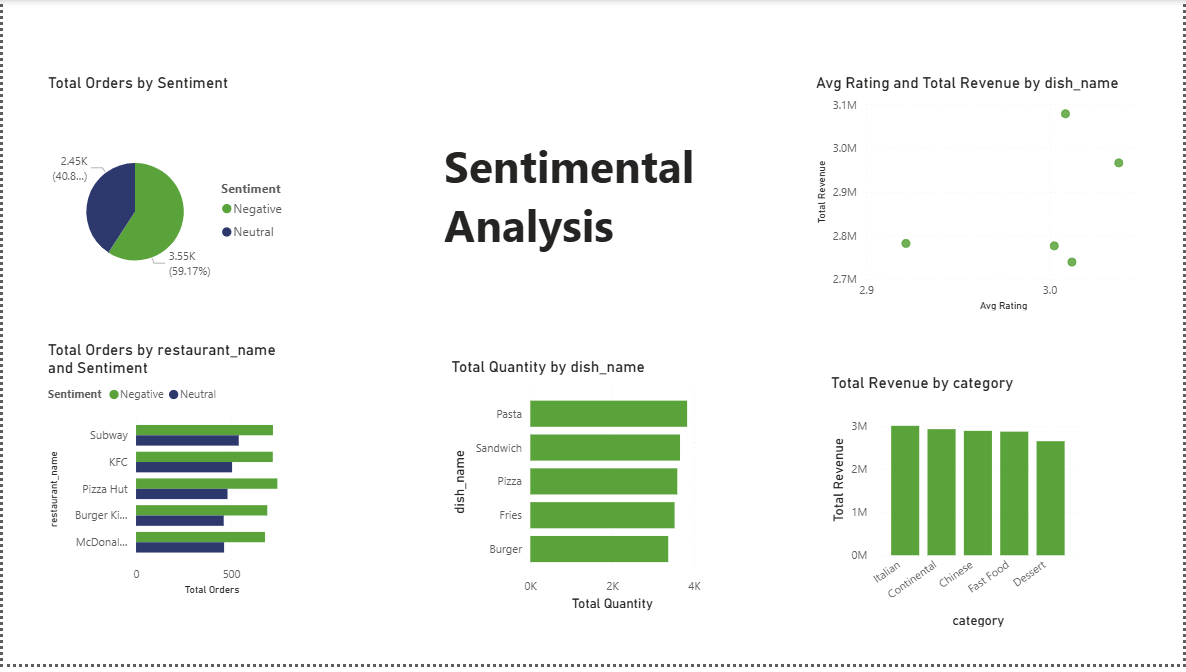

This screenshot's page, from the dashboard's own definition file:
{"tool":"powerbi","page":{"name":"Page 2","canvas":[1280,720],"ordinal":1},"visuals":[{"type":"pieChart","fields":{"Category":["Foodpanda Analysis Dataset.Sentiment"],"Y":["Foodpanda Analysis Dataset.Total Orders"]},"box":[43.9,79.7,279.8,279.8],"z":0},{"type":"clusteredBarChart","fields":{"Category":["Foodpanda Analysis Dataset.restaurant_name"],"Y":["Foodpanda Analysis Dataset.Total Orders"],"Series":["Foodpanda Analysis Dataset.Sentiment"]},"box":[44,370,280,280],"z":1000},{"type":"clusteredBarChart","fields":{"Category":["Foodpanda Analysis Dataset.dish_name"],"Y":["Foodpanda Analysis Dataset.Total Quantity"]},"box":[481.5,387.1,279.8,279.8],"z":2000},{"type":"clusteredColumnChart","fields":{"Category":["Foodpanda Analysis Dataset.category"],"Y":["Foodpanda Analysis Dataset.Total Revenue"]},"box":[893,405,279.8,279.8],"z":3000},{"type":"scatterChart","fields":{"X":["Foodpanda Analysis Dataset.Avg Rating"],"Y":["Foodpanda Analysis Dataset.Total Revenue"],"Category":["Foodpanda Analysis Dataset.dish_name"]},"box":[876.7,79.7,374.1,261.9],"z":4000},{"type":"textbox","box":[473.3,141.5,287.9,139.9],"z":5000}]}

Visuals, with their boxes in screenshot pixels (x1, y1, x2, y2), scaled from the page's 1280x720 canvas onto the 1186x672 screenshot:
pieChart - Foodpanda Analysis Dataset.Sentiment x Foodpanda Analysis Dataset.Total Orders: select_region(41, 74, 300, 336)
clusteredBarChart - Foodpanda Analysis Dataset.restaurant_name x Foodpanda Analysis Dataset.Total Orders: select_region(41, 345, 300, 607)
clusteredBarChart - Foodpanda Analysis Dataset.dish_name x Foodpanda Analysis Dataset.Total Quantity: select_region(446, 361, 705, 622)
clusteredColumnChart - Foodpanda Analysis Dataset.category x Foodpanda Analysis Dataset.Total Revenue: select_region(827, 378, 1087, 639)
scatterChart - Foodpanda Analysis Dataset.Avg Rating x Foodpanda Analysis Dataset.Total Revenue: select_region(812, 74, 1159, 319)
textbox: select_region(439, 132, 705, 263)
